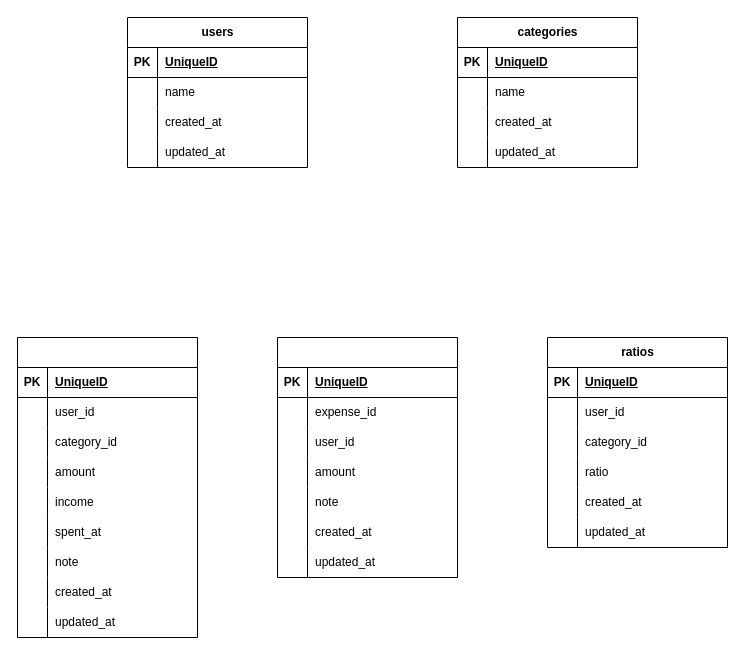
The diagram is 745 pixels wide and 655 high, and some of its shapes have lost their labels. Here are the shapes that lost their labels. From the top down, the box of each, then its label:
(276, 336, 458, 578): personal-expenses
(16, 336, 198, 638): expenses
